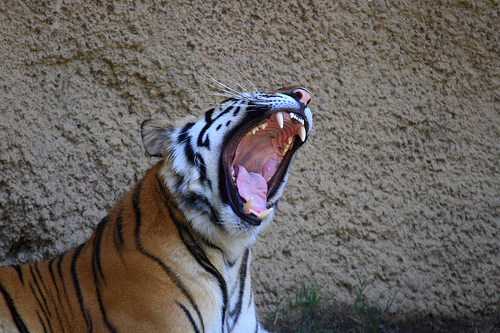Tigre: (58, 101, 297, 333)
